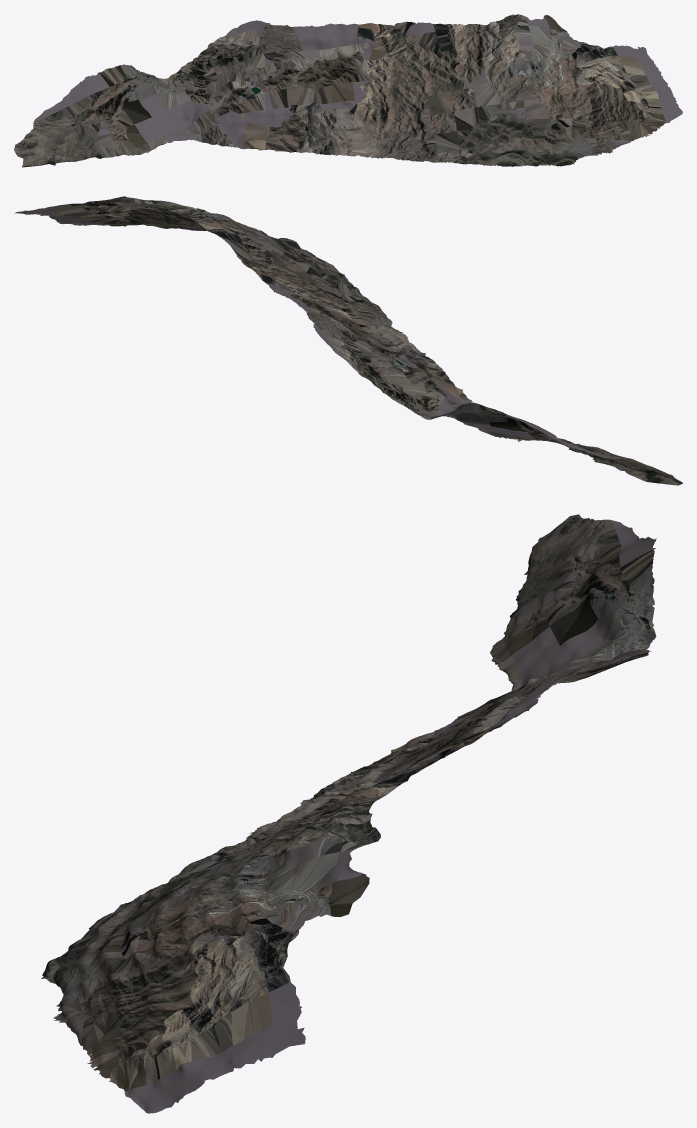
Rendered from MOD_domainSurroundings_largeMountain.fbx.
3 views of the same model, one above another, from view 1: azimuth 30°, elevation 25°; view 2: azimuth 150°, elevation 25°; view 3: azimuth 270°, elevation 25° (orthographic). The views are drawn at different scales.
Parts seen in each view (by area): view 1: MOD_domainSurroundings_largeMountain; view 2: MOD_domainSurroundings_largeMountain; view 3: MOD_domainSurroundings_largeMountain.
Part boxes in pixels (bbox=[...]): MOD_domainSurroundings_largeMountain: bbox=[14, 14, 682, 167]; MOD_domainSurroundings_largeMountain: bbox=[14, 196, 682, 485]; MOD_domainSurroundings_largeMountain: bbox=[41, 514, 656, 1113].
Size of the model in its own units: 107798 by 15670 by 50845.
1 material, 1 textured.
